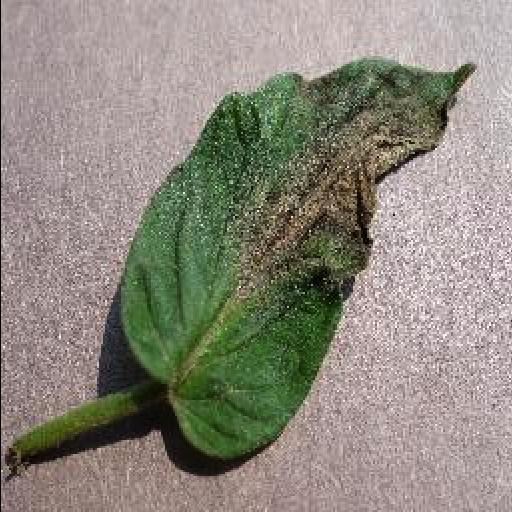disease_tomato: (114, 56, 476, 456)
